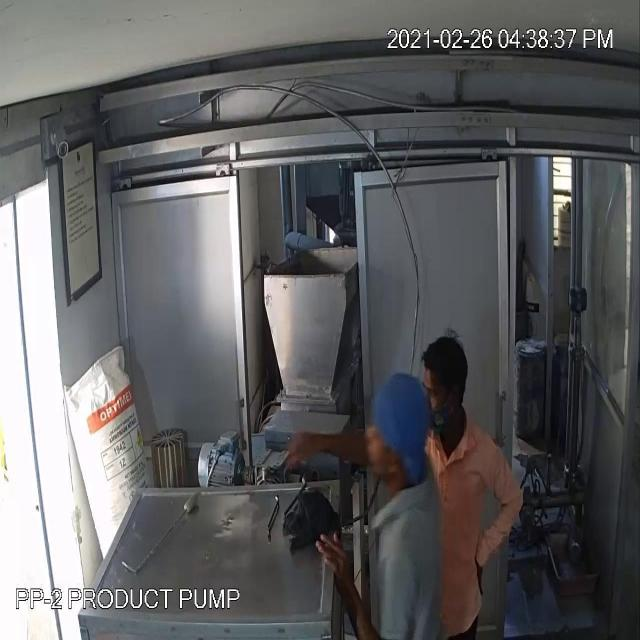no-helmet: (417, 332, 477, 408)
